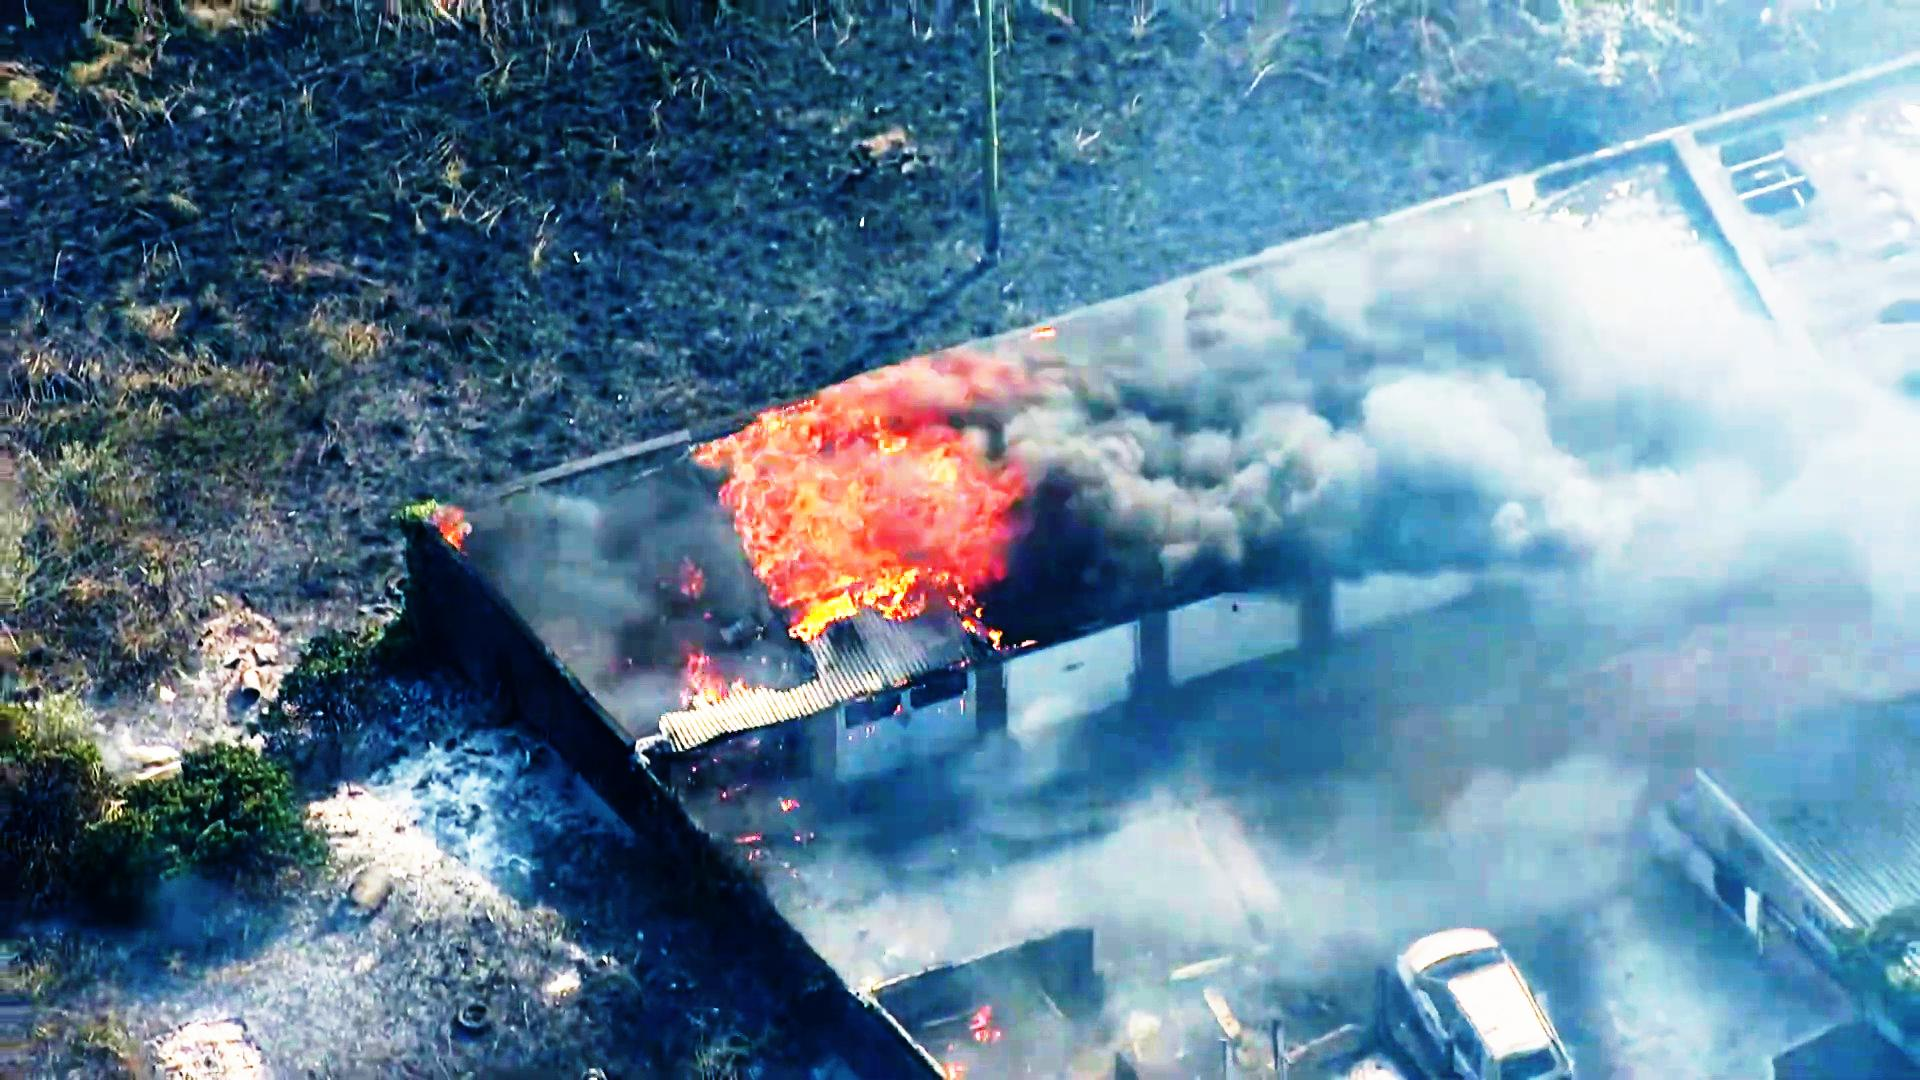fire: (665, 368, 1038, 661)
smoke: (1257, 385, 1785, 811), (971, 223, 1560, 567)
